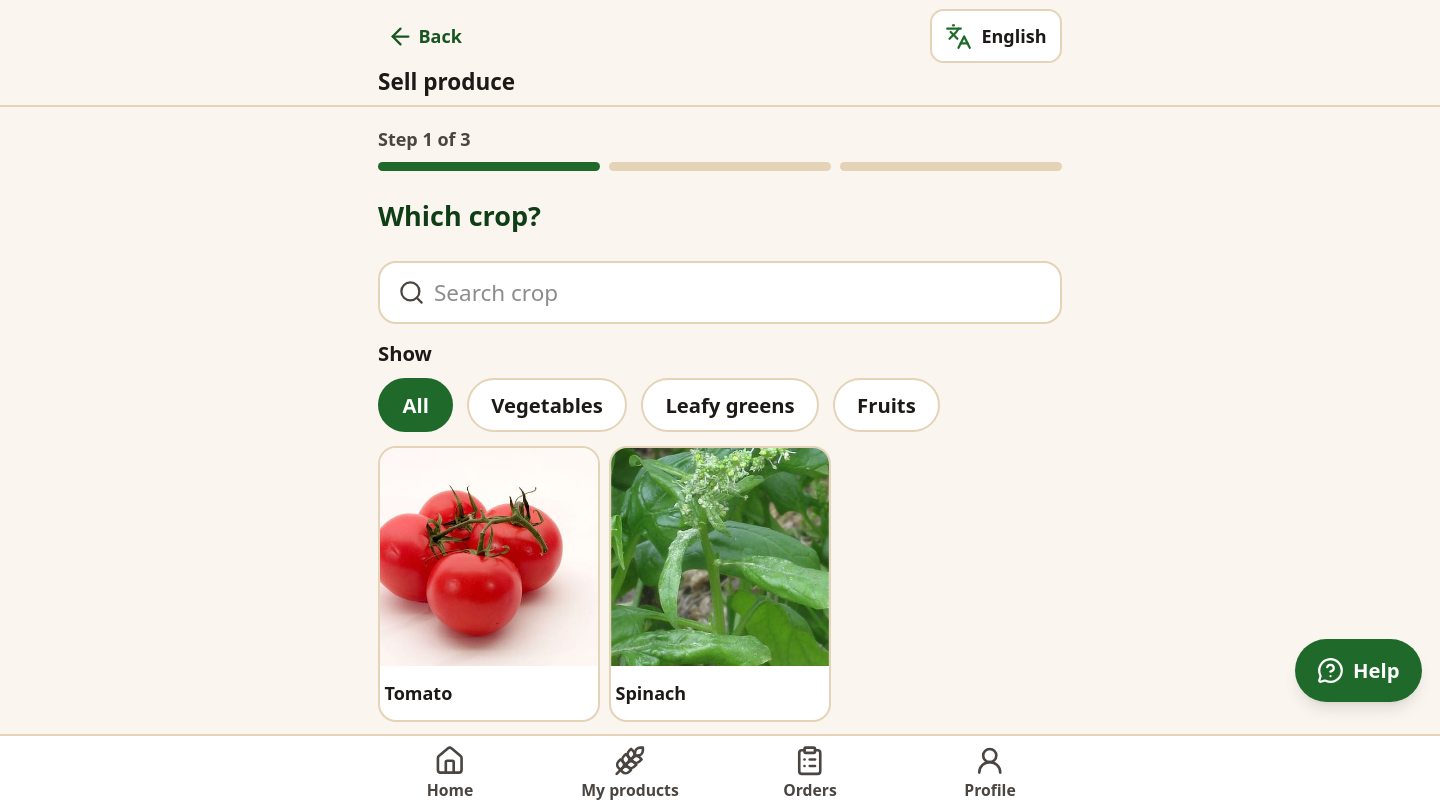
Scenario: AI helpers › shows a price suggestion with its source and fills the price on tap
Click the button "Tomato": (489, 584) x1=378 y1=446 x2=600 y2=722
(page scrolled)
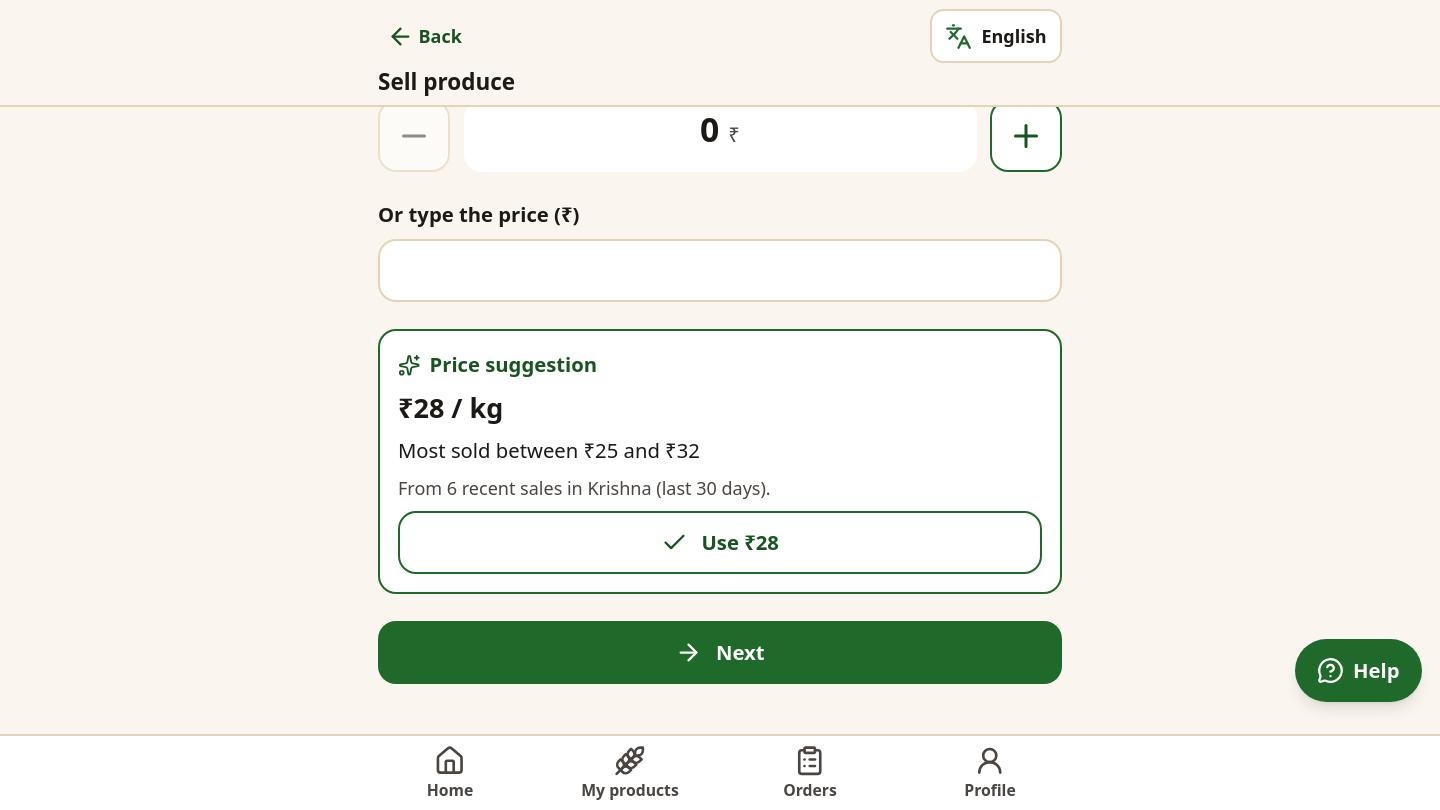
Now the text "From 6 recent sales in Krishna (last 30 days)." is shown, box x1=398 y1=476 x2=771 y2=500
Click the button "Use ₹28": (720, 543) x1=398 y1=511 x2=1042 y2=574
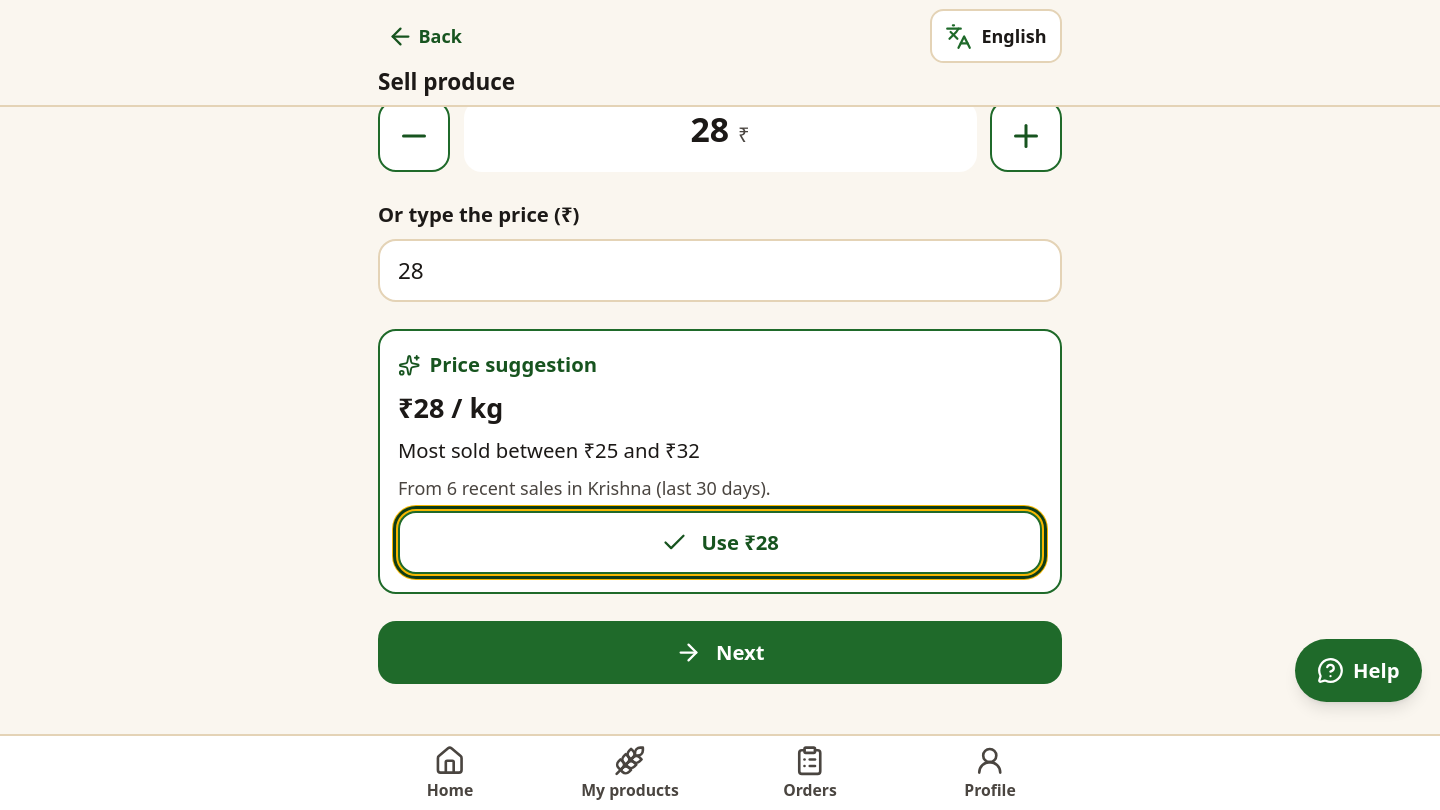
Now the field labelled "Or type the price (₹)" holds "28", box x1=380 y1=242 x2=1060 y2=300
